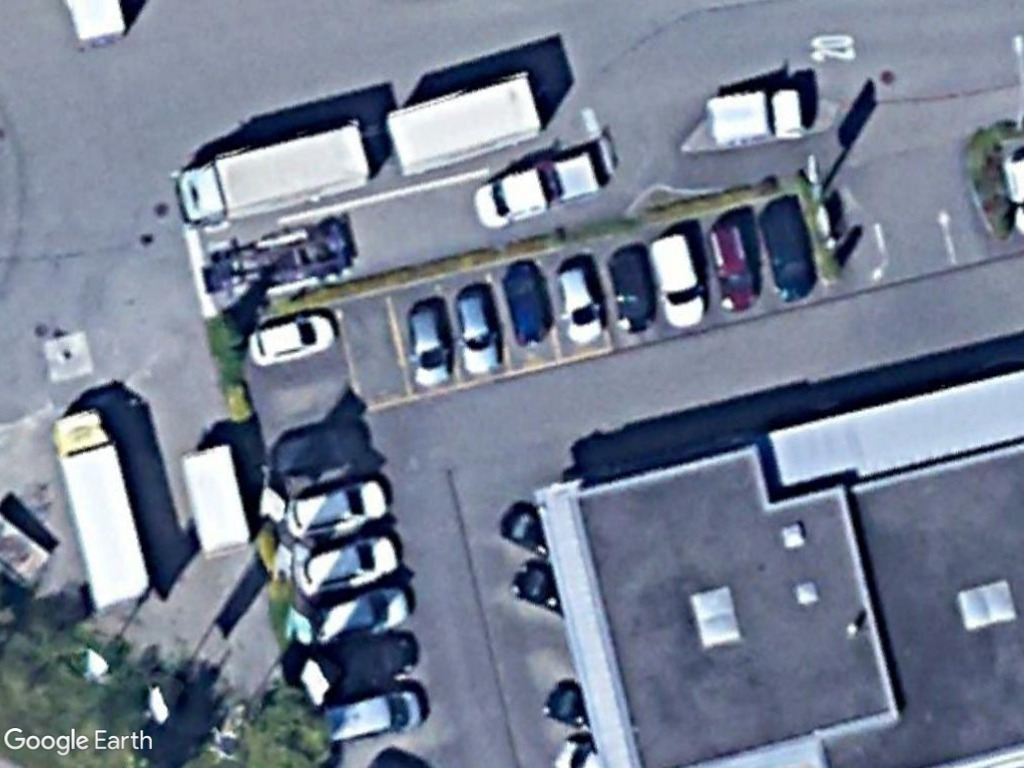car: (293, 534, 401, 602), (284, 474, 392, 540), (242, 309, 338, 371), (705, 221, 764, 313), (452, 289, 507, 377), (551, 262, 608, 345), (403, 300, 453, 389)
longvehicle: (382, 69, 545, 180)
truck: (166, 120, 376, 230), (48, 405, 157, 608), (704, 81, 805, 149)
van: (644, 229, 709, 331), (319, 686, 425, 744)
